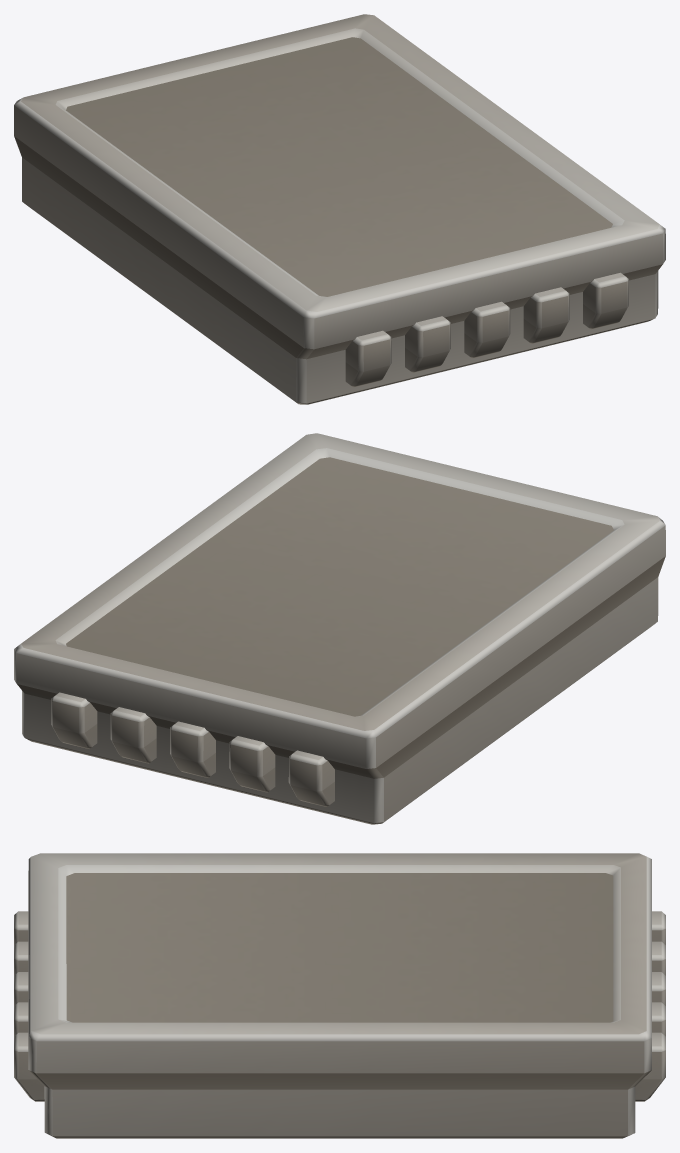
Rendered from appartment_type1_roof_type2_flat.fbx.
The picture shows the model from 3 angles, top to bottom: view 1: azimuth 30°, elevation 25°; view 2: azimuth 150°, elevation 25°; view 3: azimuth 270°, elevation 25°; orthographic projection. The views are drawn at different scales.
Visible parts, largest first — view 1: appartment_type1_roof_type2_flat; view 2: appartment_type1_roof_type2_flat; view 3: appartment_type1_roof_type2_flat.
Boxes of the visible parts, <box> form: appartment_type1_roof_type2_flat: <box>14,14,665,404</box>; appartment_type1_roof_type2_flat: <box>14,433,665,824</box>; appartment_type1_roof_type2_flat: <box>14,853,665,1138</box>.
Bounding box in the file's own units: 610 × 160 × 907.
